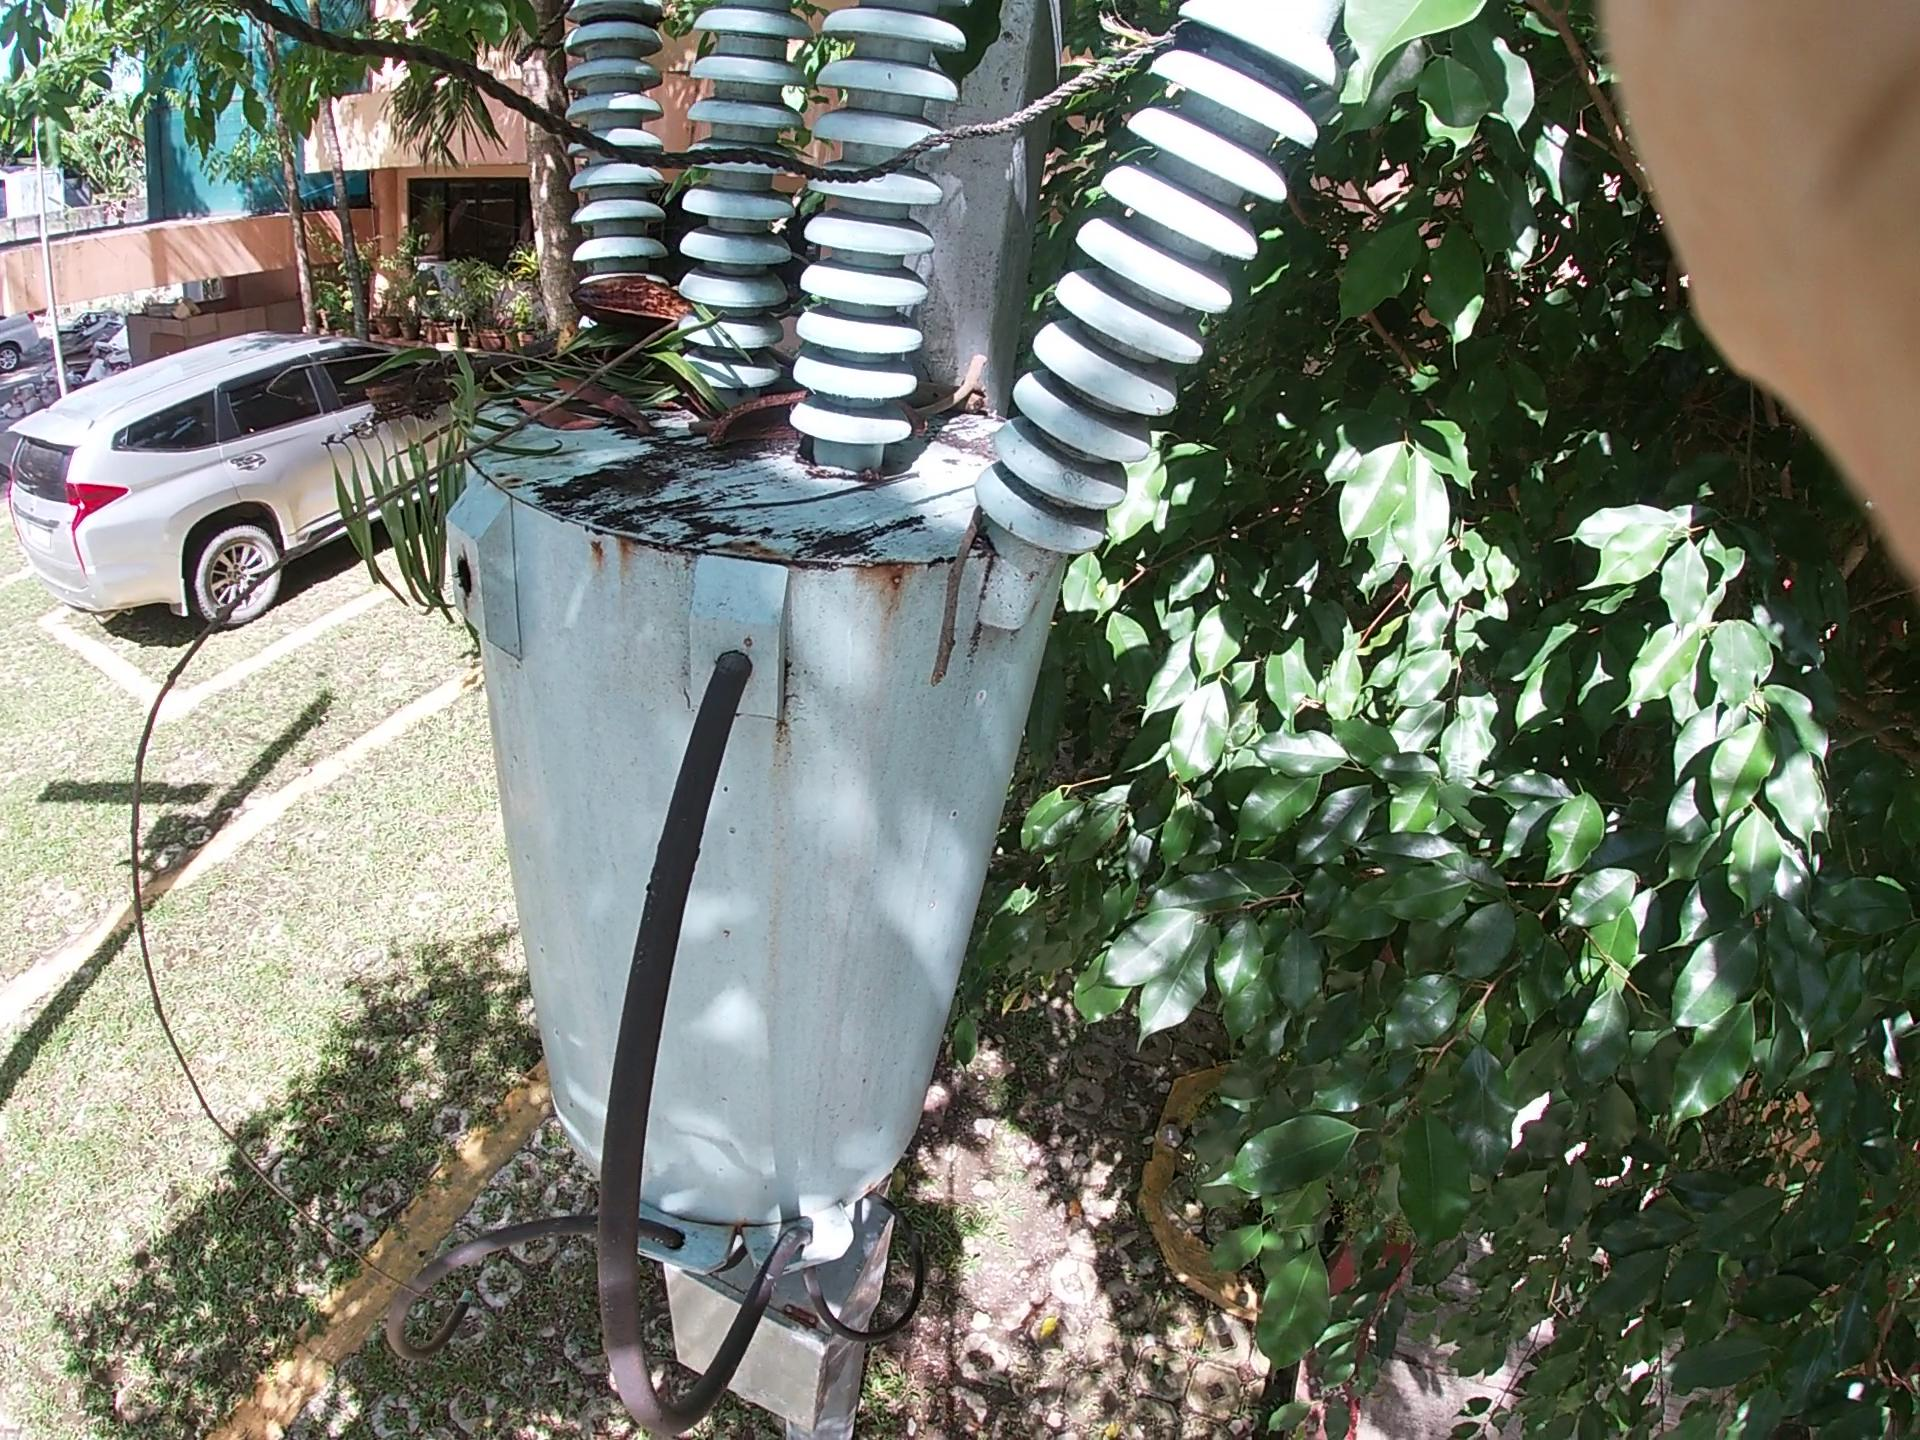branch with leaves: (317, 153, 760, 523)
leaf: (553, 334, 639, 442)
mahogany fruit: (703, 343, 813, 502), (578, 241, 732, 351)
tree branch: (2, 295, 705, 956), (909, 461, 986, 690), (874, 312, 999, 424)
